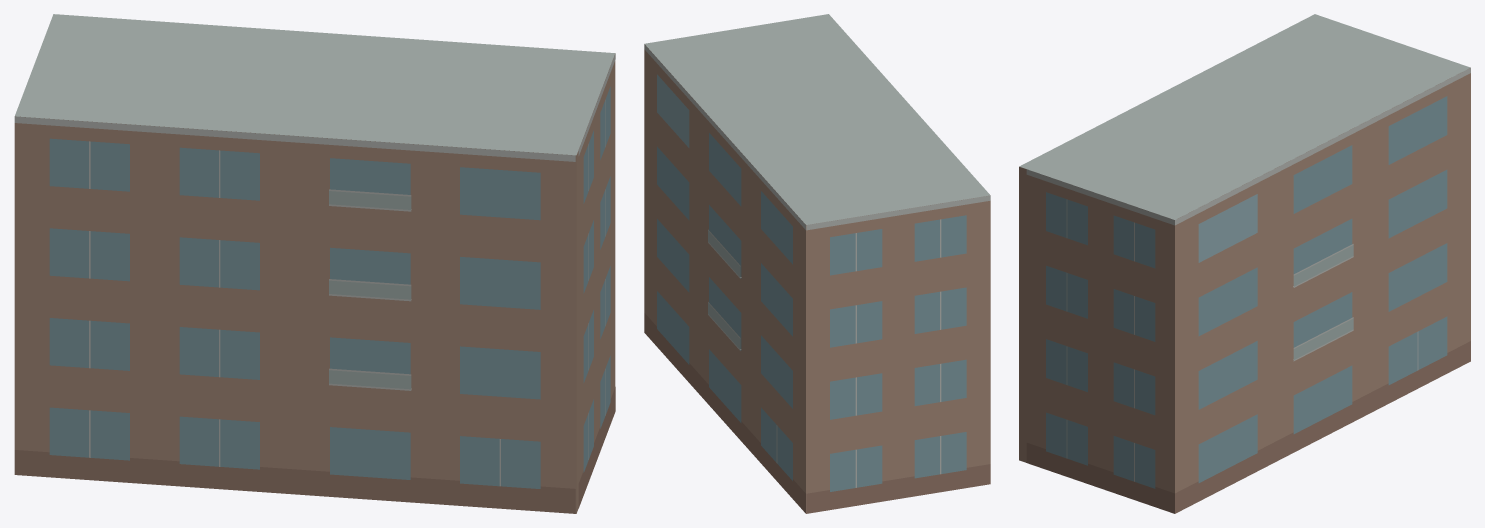
Rendered from survey-upis-32618662.glb.
3 renders of one model, left to right at view 1: azimuth 30°, elevation 25°; view 2: azimuth 150°, elevation 25°; view 3: azimuth 270°, elevation 25°, orthographic. The views are drawn at different scales.
Visible parts, largest first — view 1: survey-upis-32618662.tmp; view 2: survey-upis-32618662.tmp; view 3: survey-upis-32618662.tmp.
Part boxes in pixels (bbox=[...]): survey-upis-32618662.tmp: bbox=[14, 14, 615, 513]; survey-upis-32618662.tmp: bbox=[644, 14, 990, 513]; survey-upis-32618662.tmp: bbox=[1019, 14, 1470, 513].
Bounding box in the file's own units: 19.87 × 13.2 × 18.4.
